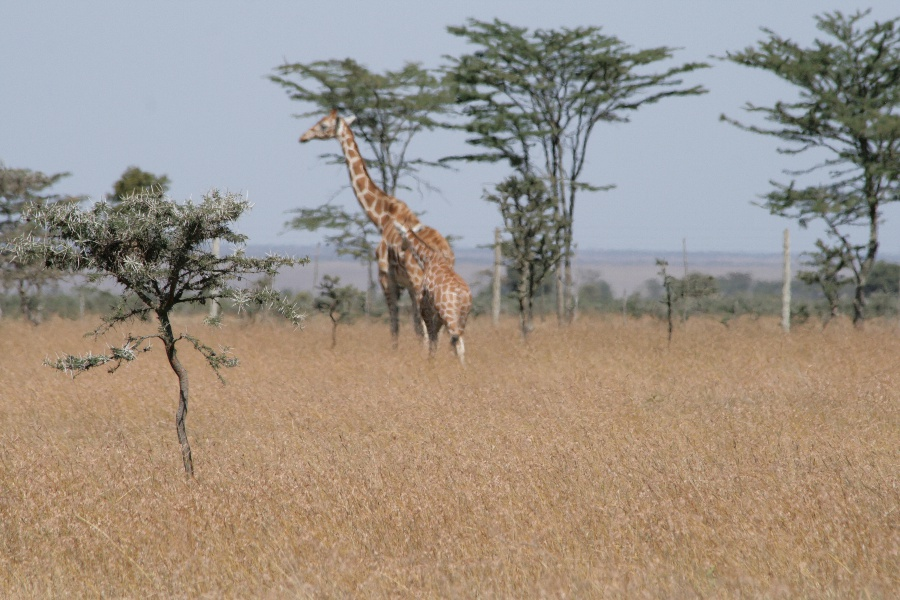giraffe: (292, 103, 452, 332), (392, 222, 484, 365)
